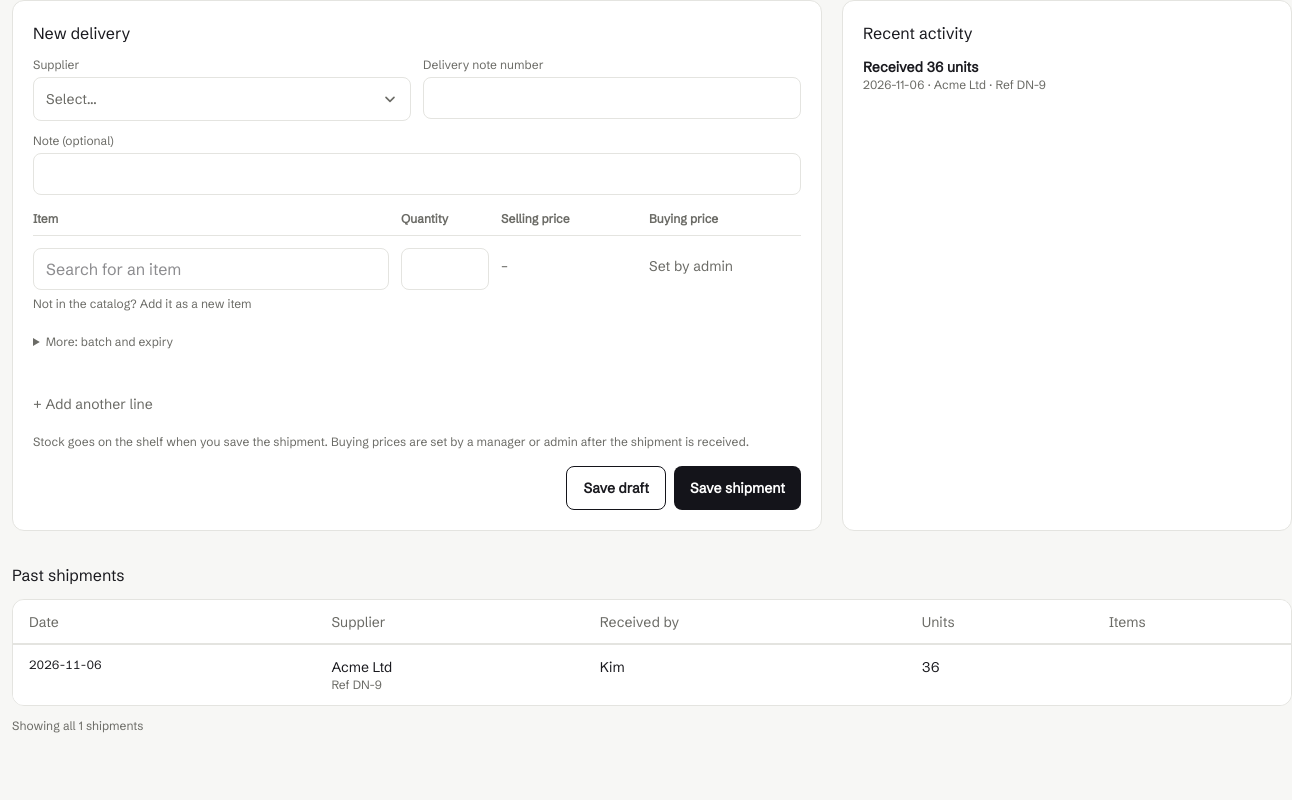
Test case: Receive, new layout: the delivery form › can switch a line back to an existing item
The image size is (1292, 800).
Step 1. Click the button "Not in the catalog? Add it as a new item" → (142, 304), box [33, 296, 252, 312]
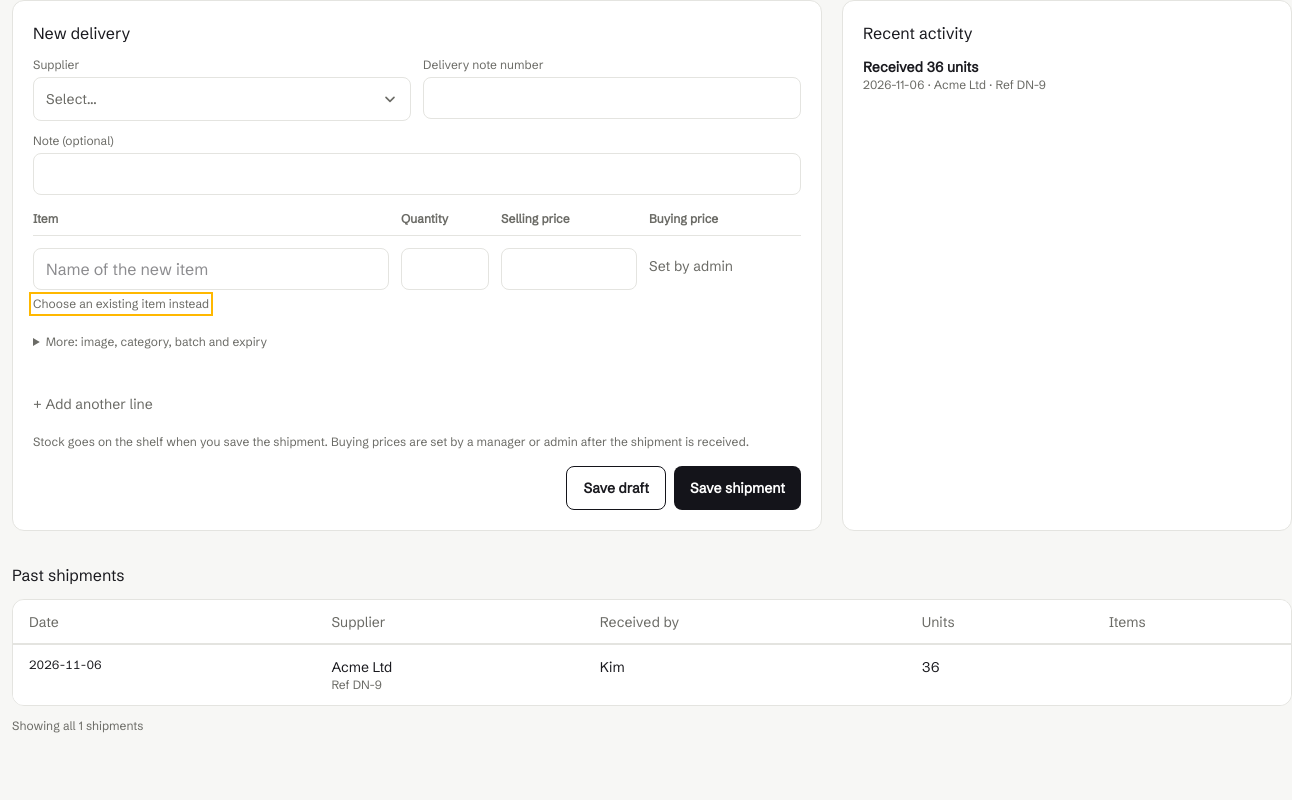
Step 2. Click the button "Choose an existing item instead" → (121, 304), box [33, 296, 209, 312]
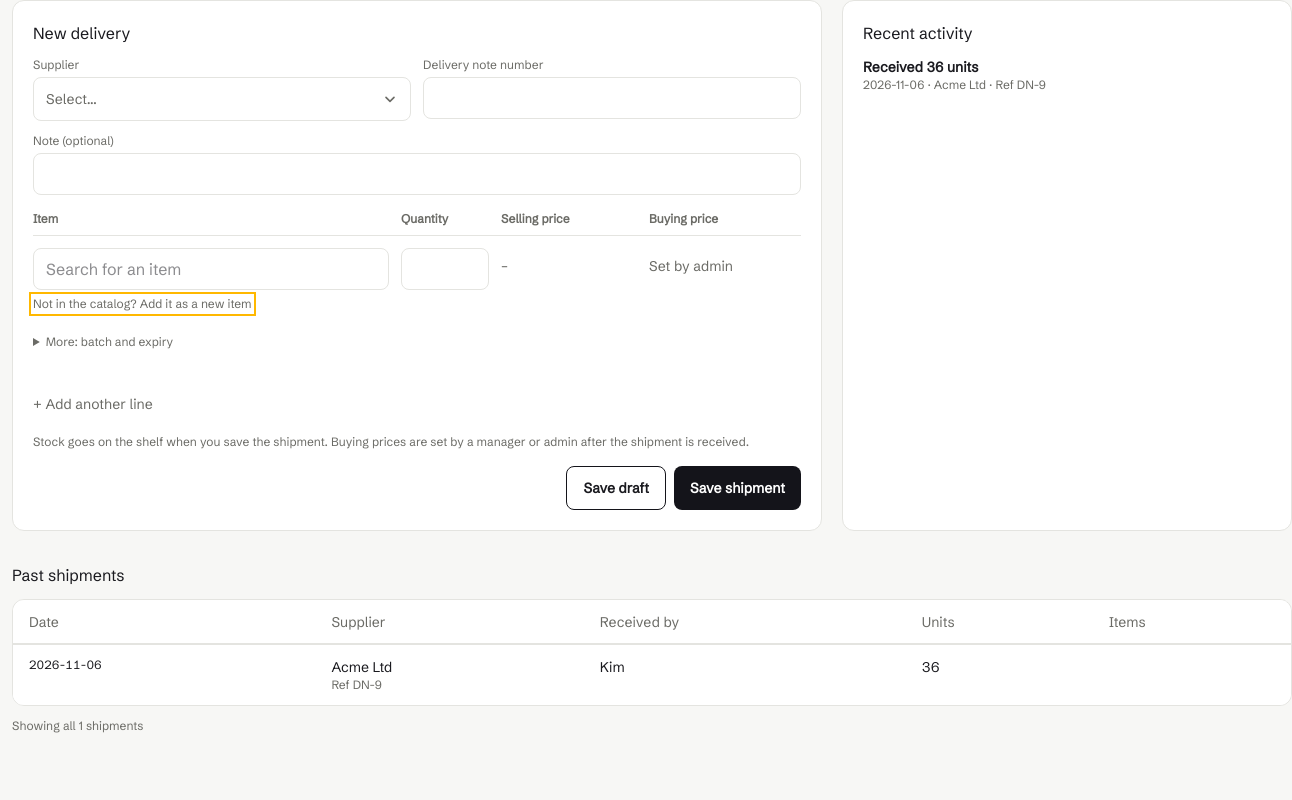
Expected: the field named "Line 1 item" is shown, [33, 248, 389, 290]
